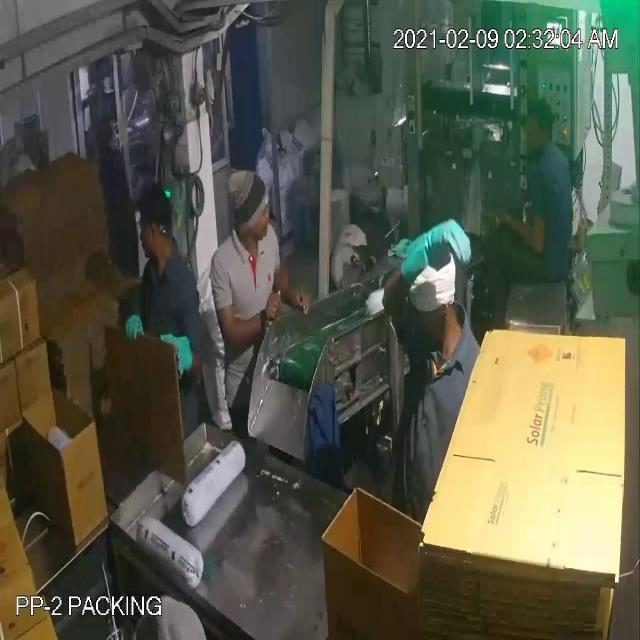No_Gloves: (30, 52, 518, 356)
